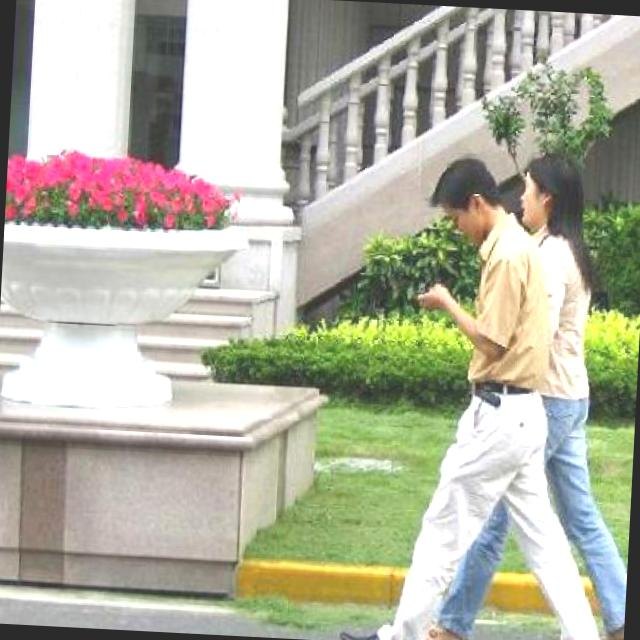Person: (333, 145, 634, 640), (492, 149, 640, 640)
